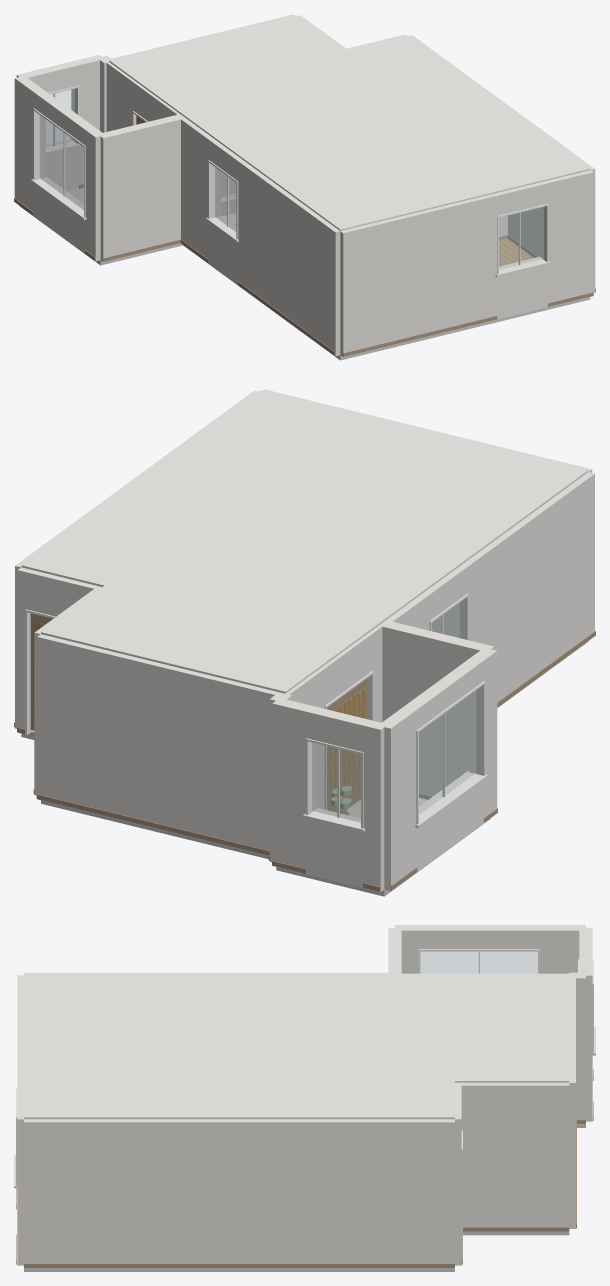
File: option-04.glb
3 views of the same model, one above another, from view 1: azimuth 30°, elevation 25°; view 2: azimuth 150°, elevation 25°; view 3: azimuth 270°, elevation 25° (orthographic). The views are drawn at different scales.
Visible parts, largest first — view 1: 一居04_architecture_plaster, 一居04_ceiling_plaster, 一居04_glass_glass, 一居04_frames_ceramic, 一居04_trim_wood, 一居04_frames_marble, 一居04_slab_slab, 一居04_floor_oak; view 2: 一居04_architecture_plaster, 一居04_ceiling_plaster, 一居04_glass_glass, 一居04_frames_ceramic, 一居04_trim_wood, 一居04_frames_marble, 门扇_bal-door_oak, 一居04_slab_slab; view 3: 一居04_architecture_plaster, 一居04_ceiling_plaster, 一居04_trim_wood, 一居04_glass_glass, 一居04_slab_slab, 一居04_frames_ceramic.
Part boxes in pixels (box(x1,y1,x2,y2)): 一居04_architecture_plaster: box(14, 14, 595, 357); 一居04_ceiling_plaster: box(109, 15, 590, 230); 一居04_glass_glass: box(40, 89, 543, 269); 一居04_frames_ceramic: box(33, 85, 548, 274); 一居04_trim_wood: box(14, 184, 595, 356); 一居04_frames_marble: box(31, 139, 550, 276); 一居04_slab_slab: box(20, 206, 590, 360); 一居04_floor_oak: box(499, 238, 533, 266); 一居04_architecture_plaster: box(15, 389, 594, 892); 一居04_ceiling_plaster: box(21, 390, 588, 693); 一居04_glass_glass: box(312, 603, 476, 822); 一居04_frames_ceramic: box(25, 593, 485, 828); 一居04_trim_wood: box(14, 631, 595, 891); 一居04_frames_marble: box(303, 771, 488, 832); 门扇_bal-door_oak: box(327, 687, 365, 811); 一居04_slab_slab: box(21, 641, 588, 896); 一居04_architecture_plaster: box(17, 925, 592, 1268); 一居04_ceiling_plaster: box(24, 973, 569, 1119); 一居04_trim_wood: box(16, 1069, 593, 1267); 一居04_glass_glass: box(420, 952, 537, 973); 一居04_slab_slab: box(24, 1124, 585, 1271); 一居04_frames_ceramic: box(16, 949, 593, 1261).
Bounding box in the file's own units: 8.02 × 2.91 × 9.92.
Materials: 17 (2 with a texture image).
